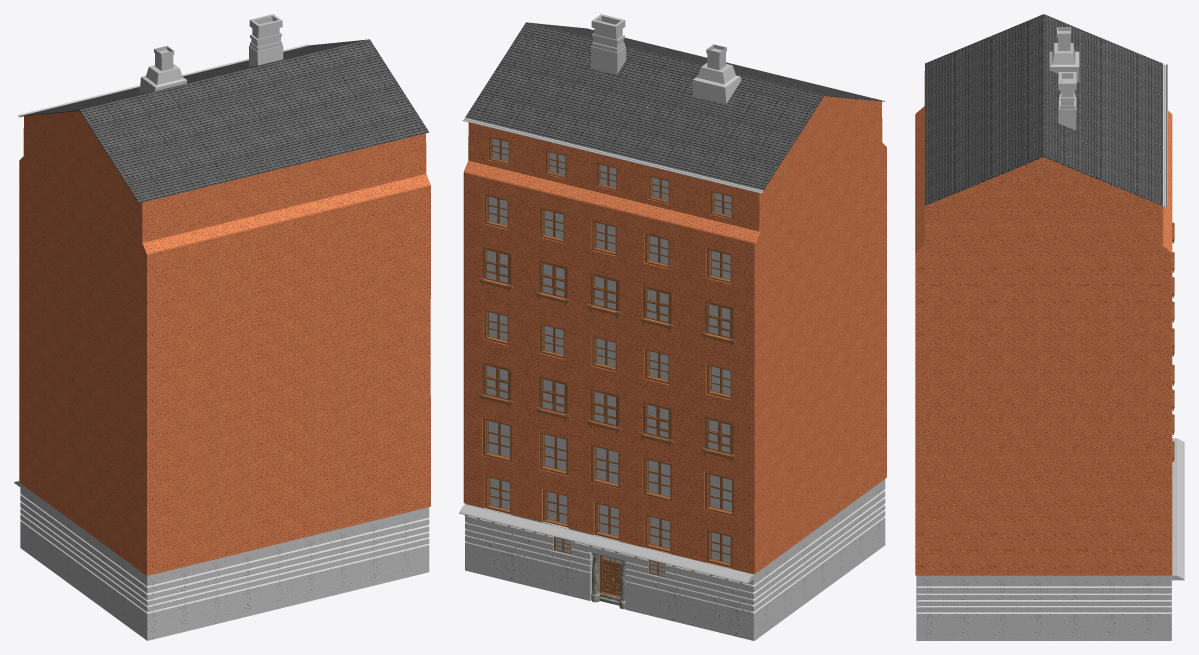
Rendered from Apartment1_Hi.fbx.
3 renders of one model, left to right at view 1: azimuth 30°, elevation 25°; view 2: azimuth 150°, elevation 25°; view 3: azimuth 270°, elevation 25°, orthographic. The views are drawn at different scales.
Visible parts, largest first — view 1: Apartment1, 1st_C.018, Apartment1.005, Apartment1.001, Apartment1.004, Apartment1.003, Apartment1.002, 5th_L_C.012; view 2: Apartment1, 1st_C.018, Apartment1.005, Apartment1.001, 5th_L_C.012, 1st_C.032, Apartment1.004, Apartment1.002, Apartment1.003, Plane.023, Plane.019, Plane.008 (+29 smaller); view 3: Apartment1, 1st_C.018, Apartment1.001, 5th_L_C.012, 1st_C.032.
Part boxes in pixels (x1=…): Apartment1: x1=19, y1=111, x2=430, y2=575; 1st_C.018: x1=18, y1=39, x2=429, y2=203; Apartment1.005: x1=20, y1=483, x2=209, y2=640; Apartment1.001: x1=365, y1=507, x2=429, y2=587; Apartment1.004: x1=210, y1=547, x2=264, y2=625; Apartment1.003: x1=264, y1=534, x2=316, y2=612; Apartment1.002: x1=315, y1=522, x2=366, y2=599; 5th_L_C.012: x1=139, y1=14, x2=283, y2=92; Apartment1: x1=463, y1=96, x2=886, y2=573; 1st_C.018: x1=462, y1=22, x2=884, y2=193; Apartment1.005: x1=689, y1=479, x2=885, y2=640; Apartment1.001: x1=464, y1=503, x2=529, y2=585; 5th_L_C.012: x1=591, y1=14, x2=741, y2=103; 1st_C.032: x1=459, y1=504, x2=753, y2=583; Apartment1.004: x1=633, y1=545, x2=689, y2=625; Apartment1.002: x1=528, y1=518, x2=580, y2=598; Apartment1.003: x1=580, y1=531, x2=633, y2=611; Plane.023: x1=534, y1=260, x2=570, y2=305; Plane.019: x1=586, y1=273, x2=622, y2=318; Plane.008: x1=700, y1=300, x2=736, y2=346; Apartment1: x1=915, y1=71, x2=1172, y2=575; 1st_C.018: x1=925, y1=14, x2=1167, y2=207; Apartment1.001: x1=916, y1=575, x2=1171, y2=640; 5th_L_C.012: x1=1049, y1=27, x2=1079, y2=130; 1st_C.032: x1=1172, y1=438, x2=1184, y2=580.
Size of the model in its own units: 18.4 by 31.4 by 14.73.
